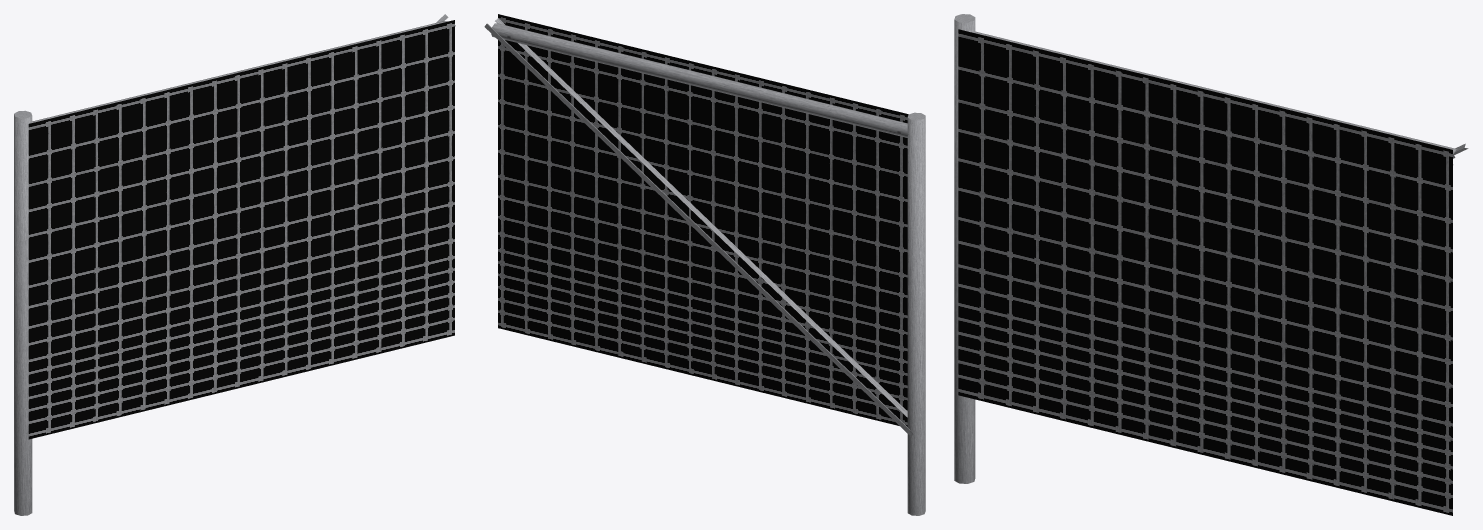
Rendered from fence-tall-mesh-start-cbj_LOD01.gltf.
3 views of the same model, side by side, from view 1: azimuth 30°, elevation 25°; view 2: azimuth 150°, elevation 25°; view 3: azimuth 330°, elevation 25° (orthographic). The views are drawn at different scales.
Parts seen in each view (by area): view 1: Cube.001; view 2: Cube.001; view 3: Cube.001.
Part boxes in pixels (x1,y1,x2,y2): Cube.001: (14,14,455,515); Cube.001: (484,14,925,515); Cube.001: (954,14,1468,515).
Bounding box in the file's own units: 2.68 × 2.33 × 0.1127.
